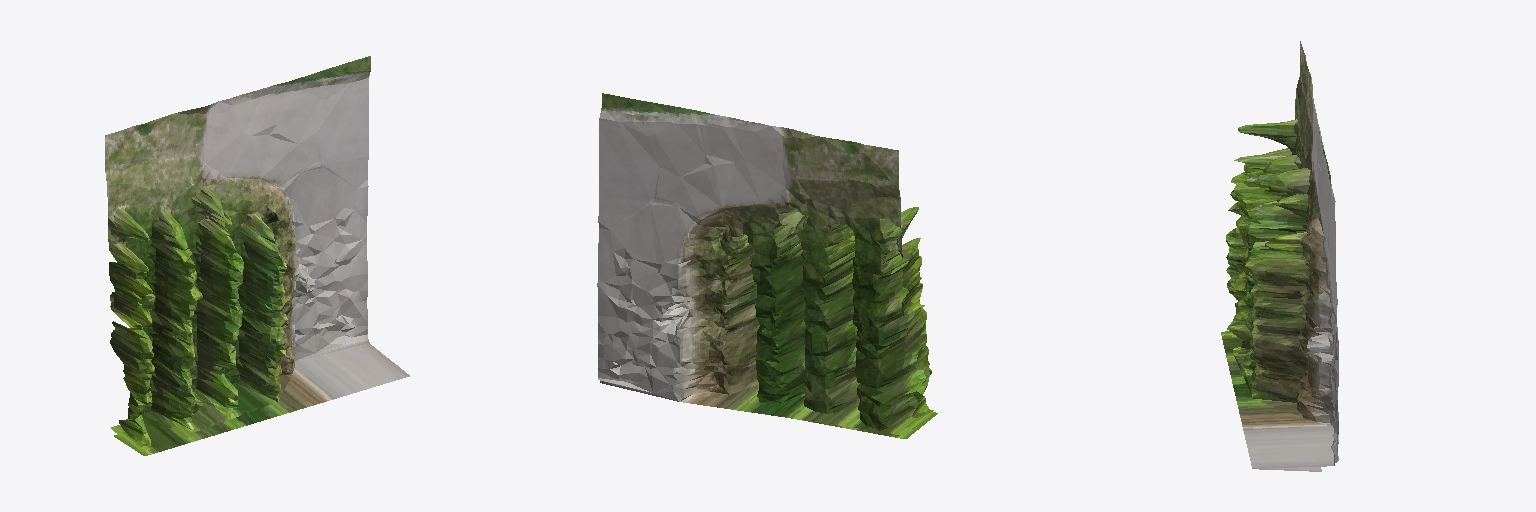
3 renders of one model, left to right at view 1: azimuth 30°, elevation 25°; view 2: azimuth 150°, elevation 25°; view 3: azimuth 270°, elevation 25°, orthographic.
Visible parts, largest first — view 1: grp1; view 2: grp1; view 3: grp1.
Boxes of the visible parts, x1=… form: grp1: x1=105, y1=56, x2=409, y2=455; grp1: x1=597, y1=93, x2=937, y2=438; grp1: x1=1221, y1=41, x2=1338, y2=471.
Bounding box in the file's own units: 10 × 10 × 3.66.
1 materials, 1 textured.